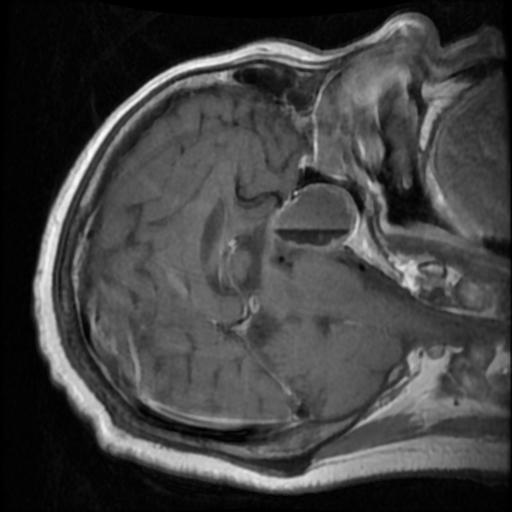pituitary tumour: (266, 181, 357, 255)
